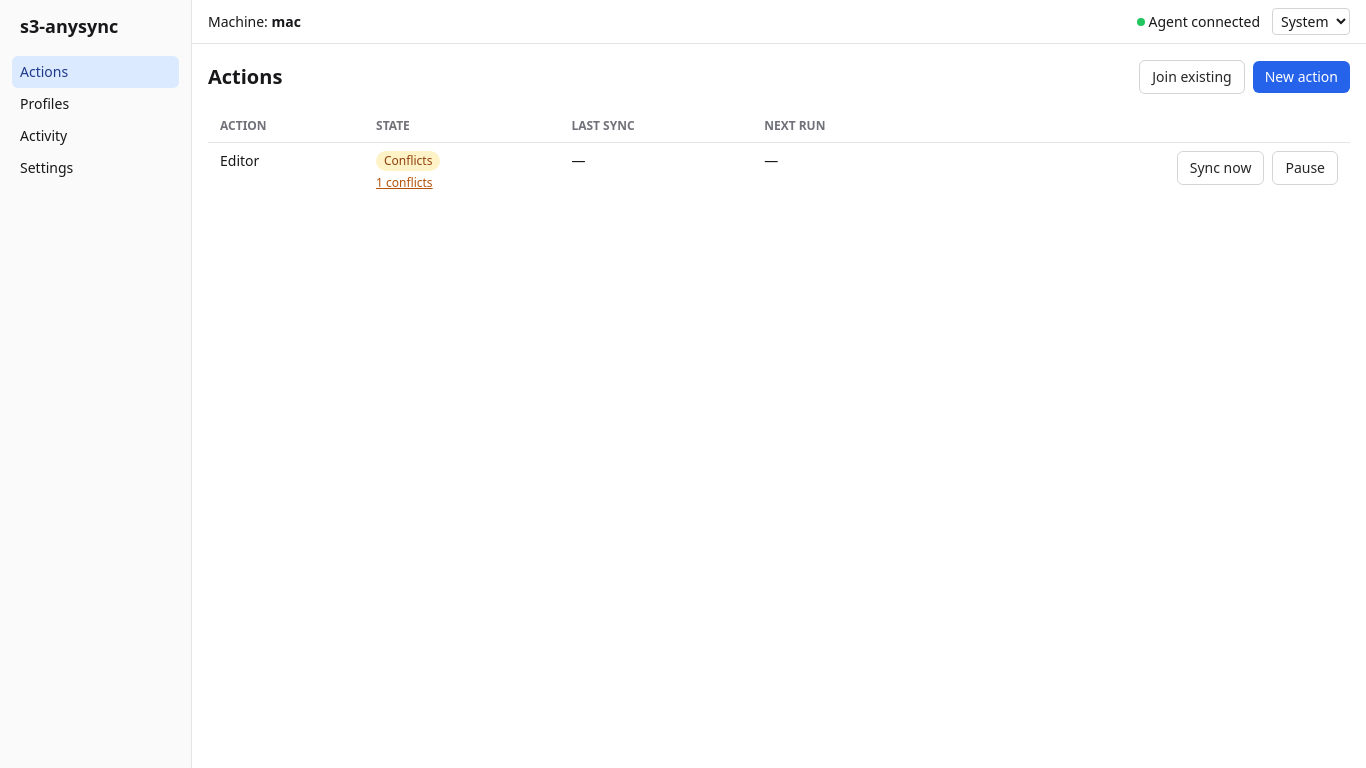
Test: stale saved conflicts (invalid) explain and reload the list, dropping the choices
Click the button "1 conflicts".
click(404, 183)  # box [376,175,433,191]
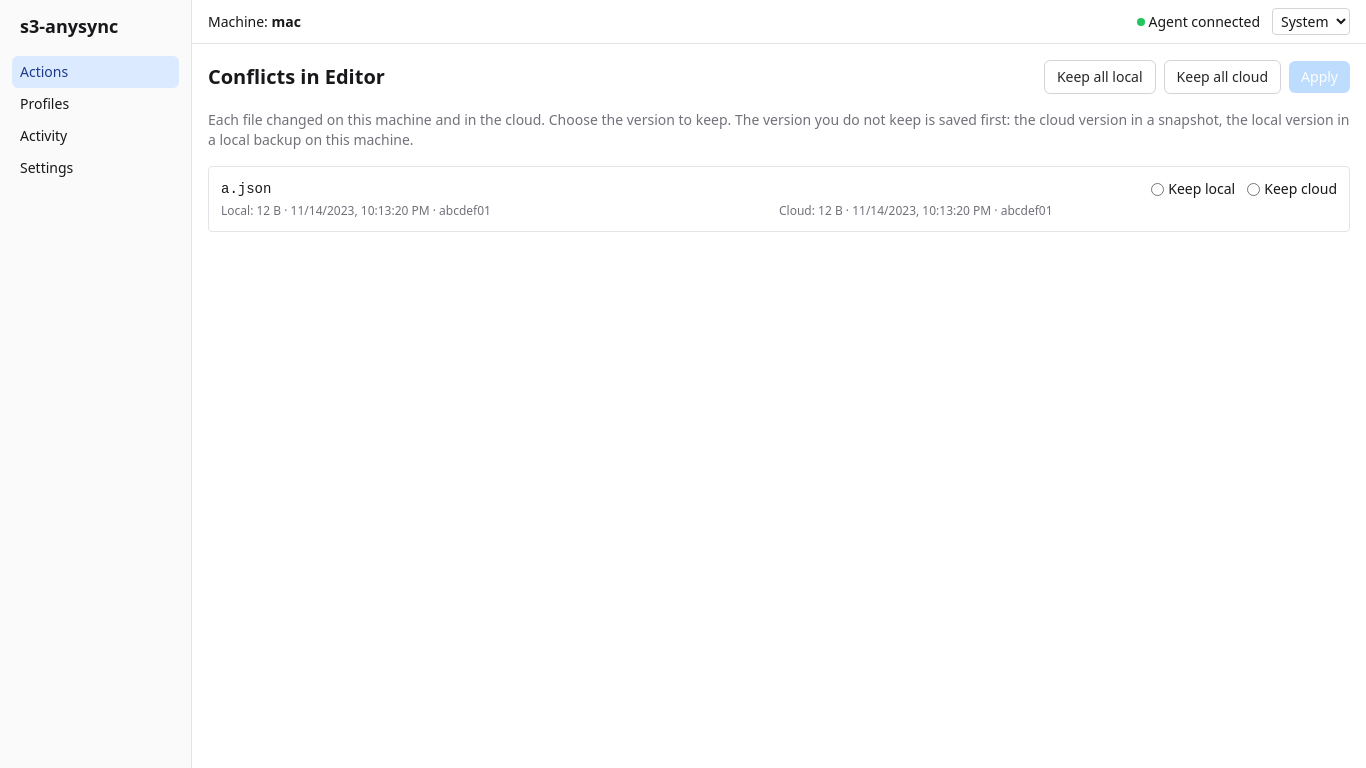
Expected: the heading "Conflicts in Editor" is shown, [208,63,385,91]
Click the radio button with aria-label "Keep local a.json".
click(1158, 189)  # box [1151,182,1164,196]
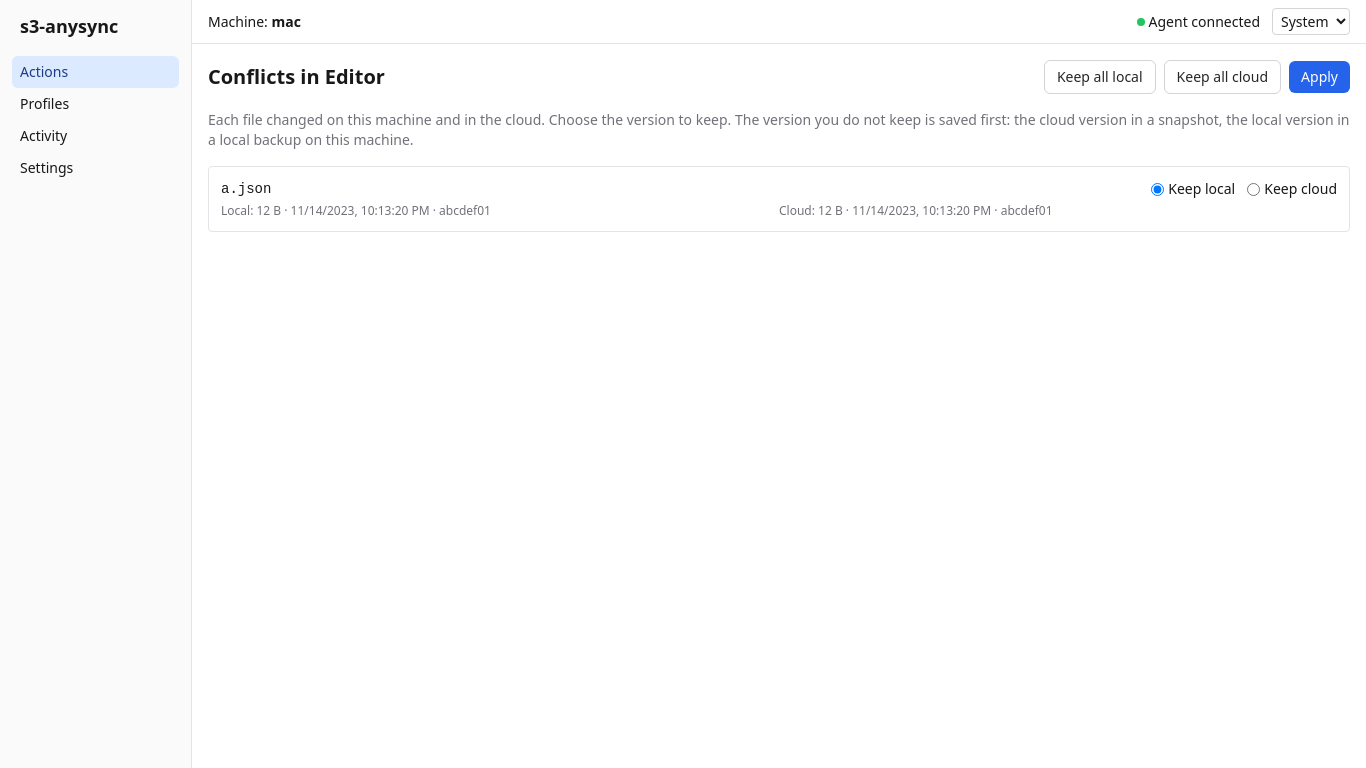
Click the button "Apply".
click(1320, 77)  # box [1289,61,1350,93]
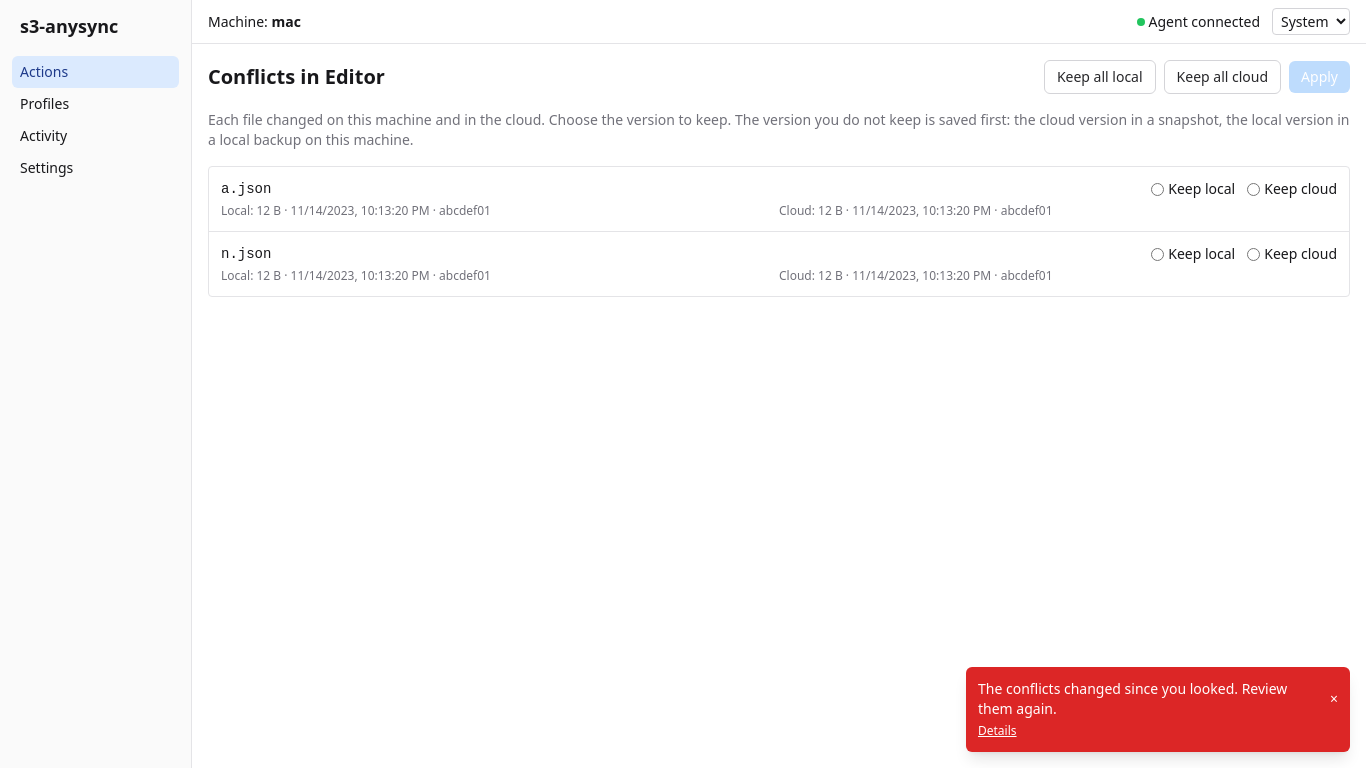
Expected: the radio button with aria-label "Keep local a.json" is not checked, [1151,182,1164,196]
Expected: the text "The conflicts changed since you looked. Review them again." is shown, [978,679,1322,719]
Expected: the button "n.json" is shown, [221,244,271,264]
